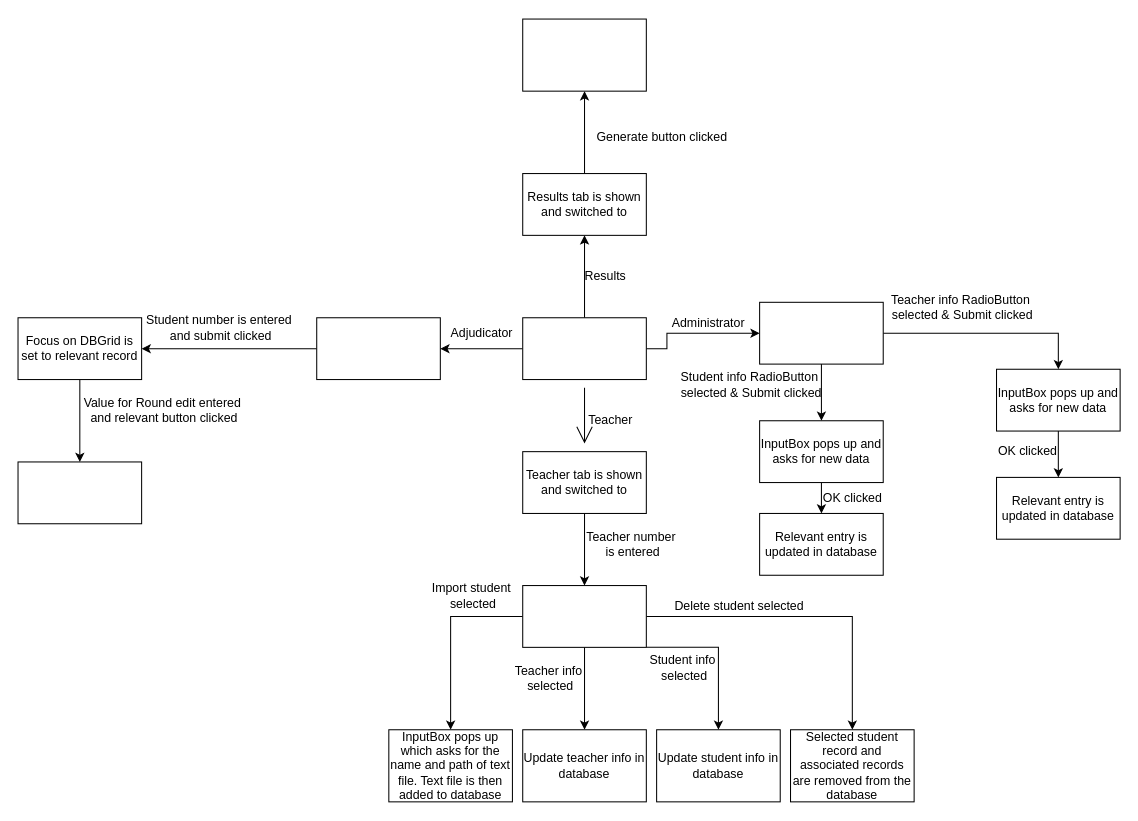
This 1138x821 diagram has some shape labels left out. Here are the shapes that lost their labels. From the top down, the centre of each, then its label:
point 584,54: Results read from database and output to RichEdit and comma-delimited textfile.
point 378,348: Adjudicator tab is shown and switched to
point 584,348: Choose user category
point 821,332: Administrator tab is shown and switched to
point 79,492: Value of Round score for selected participant is updated in database
point 584,616: All other elements on tab are shown
